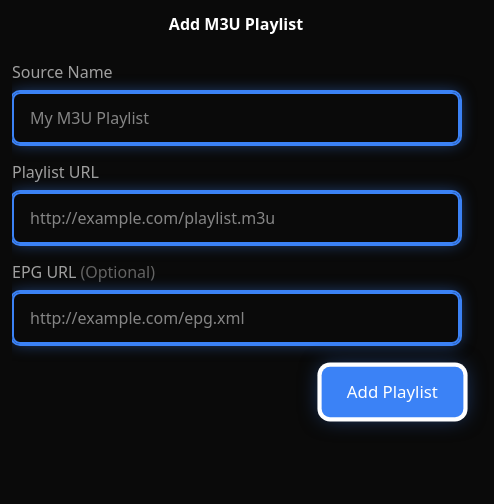
Test case: M3UUrlForm › validation › shows error when name is empty
This screenshot has width=494, height=504.
Click the button "Add Playlist": (393, 392) [322, 367, 463, 417]
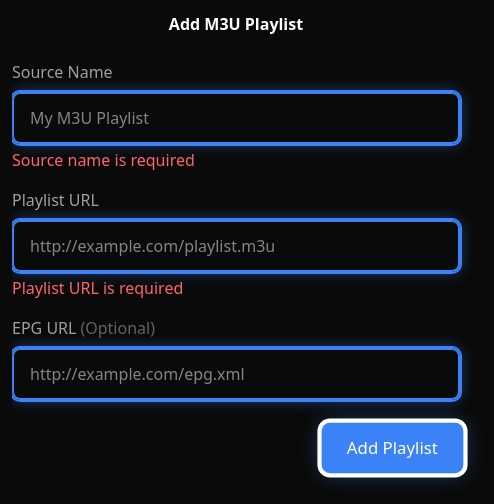
Result: the text "Source name is required" is shown at [12, 149, 195, 171]
